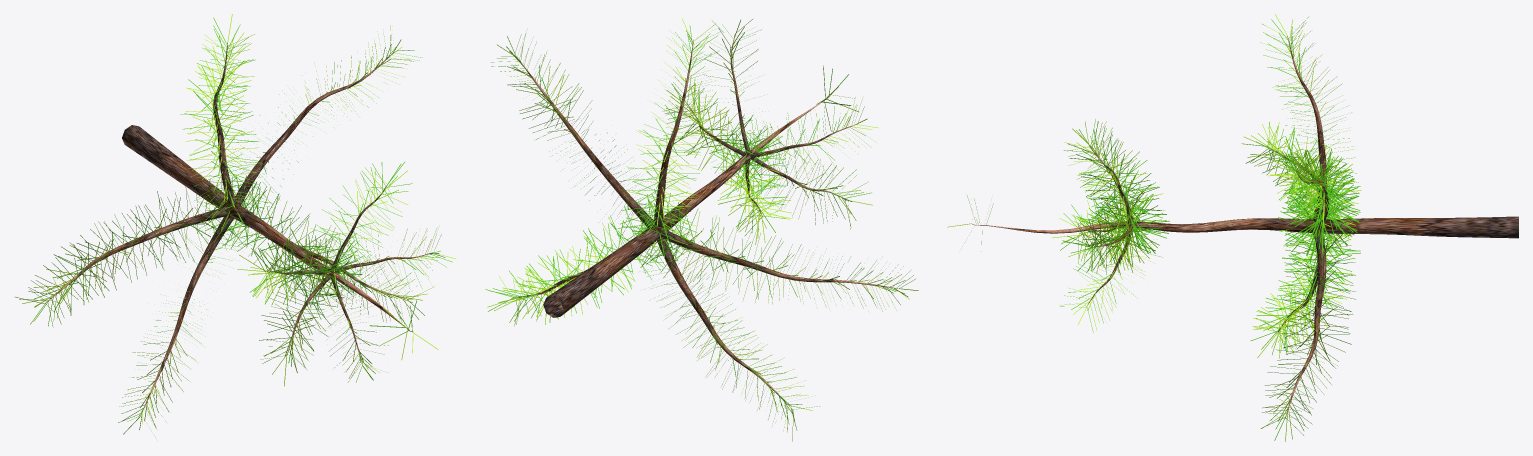
File: tree-sampling-pine-1.glb
3 renders of one model, left to right at view 1: azimuth 30°, elevation 25°; view 2: azimuth 150°, elevation 25°; view 3: azimuth 270°, elevation 25°, orthographic. The views are drawn at different scales.
Visible parts, largest first — view 1: leaves, tree; view 2: leaves, tree; view 3: leaves, tree.
Boxes of the visible parts, <box> form: leaves: <box>15,14,455,437</box>; tree: <box>44,43,433,416</box>; leaves: <box>485,18,918,441</box>; tree: <box>513,34,900,410</box>; leaves: <box>947,14,1361,441</box>; tree: <box>971,36,1518,418</box>.
Bounding box in the file's own units: 3.66 × 3.26 × 4.39.
2 materials, 2 textured.
